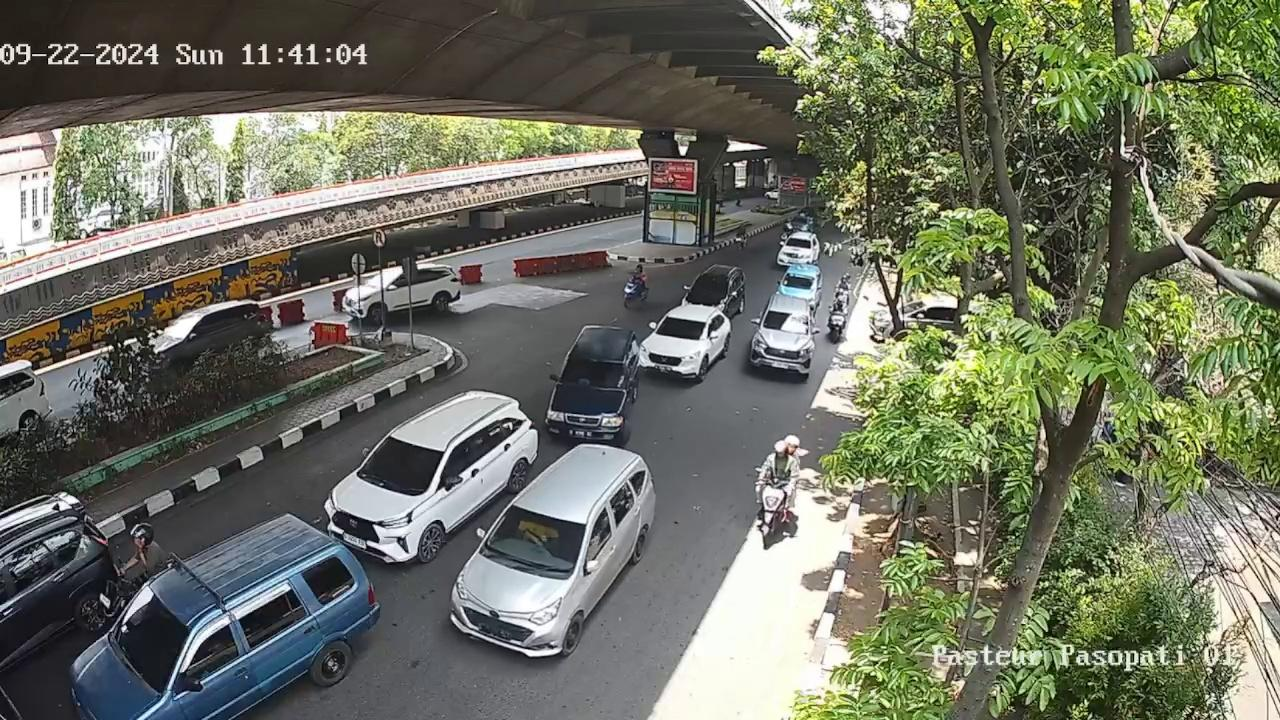tidak-pakai: (512, 517, 560, 550)
windshield: (487, 504, 587, 572), (365, 432, 443, 488), (562, 353, 626, 390), (656, 312, 707, 342), (764, 305, 809, 331), (783, 273, 818, 289)
